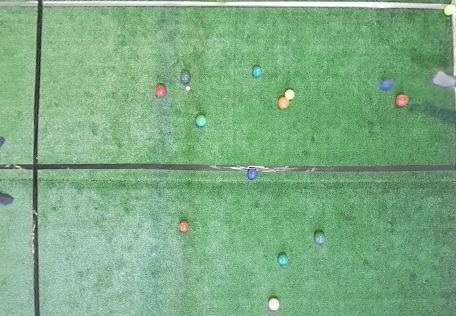blue: (378, 79, 395, 91), (247, 169, 258, 180)
green: (315, 232, 326, 244), (196, 115, 207, 127), (278, 254, 289, 265), (181, 72, 191, 84), (252, 66, 262, 78)
red: (396, 94, 409, 107), (155, 84, 167, 98), (277, 97, 290, 109), (268, 298, 280, 311), (179, 221, 189, 232)
vline: (1, 0, 43, 315), (452, 87, 455, 316), (450, 17, 455, 78)
white: (186, 86, 191, 91)
yellow: (443, 4, 455, 18), (284, 88, 295, 100)
